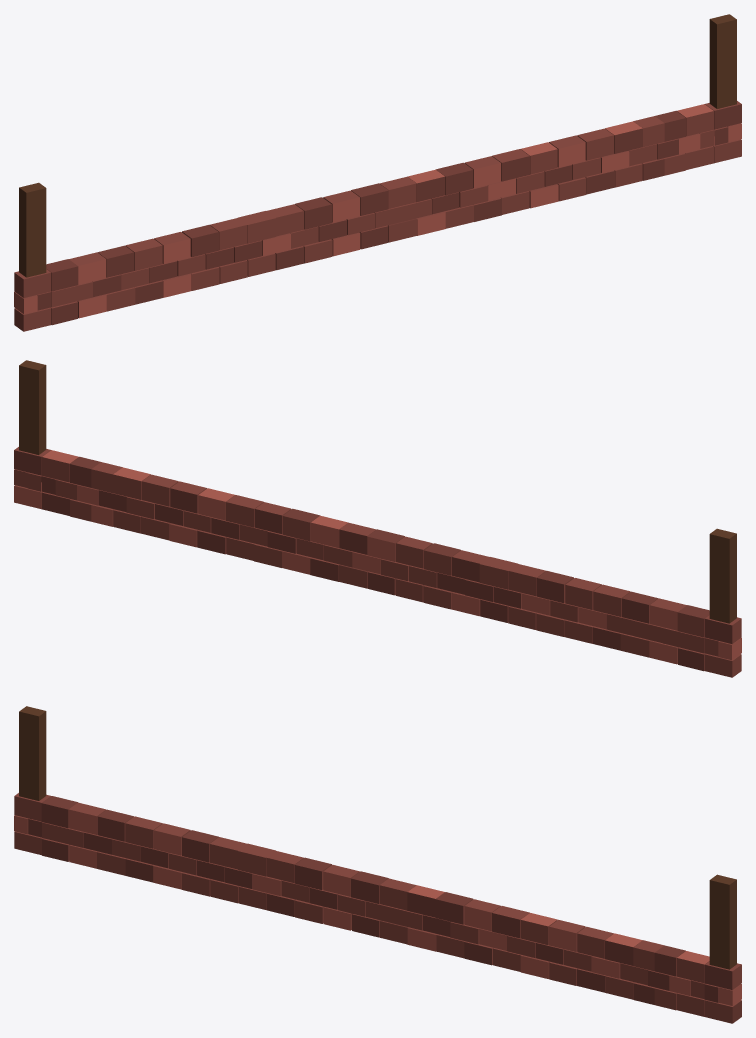
The model's file is Muro_1_LV_3.fbx.
3 views of the same model, one above another, from view 1: azimuth 30°, elevation 25°; view 2: azimuth 150°, elevation 25°; view 3: azimuth 330°, elevation 25° (orthographic).
Visible parts, largest first — view 1: Wall.007; view 2: Wall.007; view 3: Wall.007.
Part boxes in pixels (<box>): Wall.007: <box>14,14,741,331</box>; Wall.007: <box>14,360,741,677</box>; Wall.007: <box>14,706,741,1023</box>.
Bounding box in the file's own units: 1272 × 232 × 31.11.
